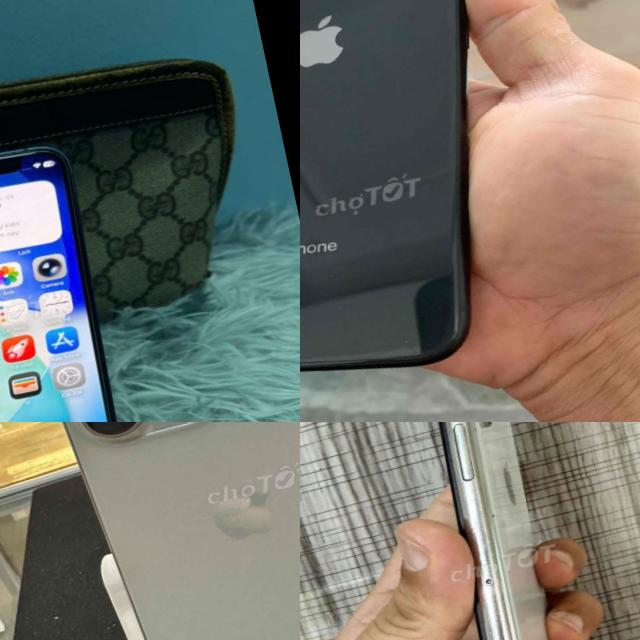gen_12_13: (0, 124, 135, 422)
gen_15: (31, 422, 300, 640)
gen_x_xs: (300, 0, 468, 370), (438, 422, 554, 640)
